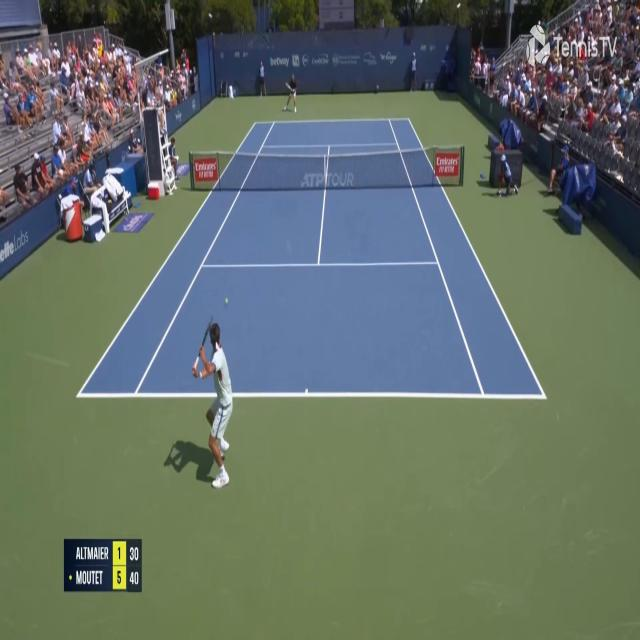tennis-player: (191, 316, 237, 493), (283, 72, 299, 113)
